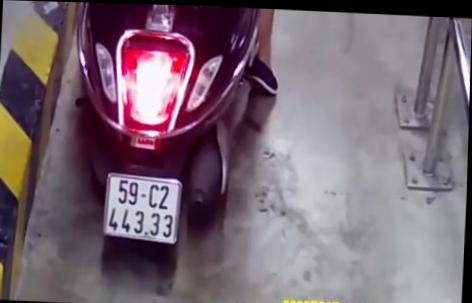LP: (101, 168, 184, 245)
